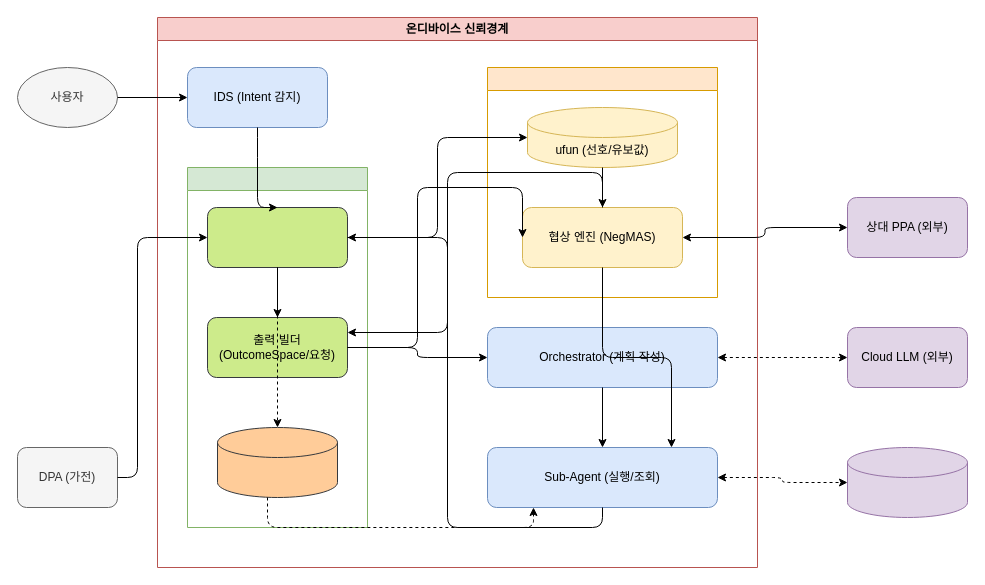
Some shapes in this 985 by 585 pixel diagram are drawn without their labels. The shapes that lost their labels are listed below. From the top down, each one's box as (x1, y1, x2, y2) in pixels, then its label:
(486, 66, 718, 298): Meta Agent (협상 두뇌)
(206, 206, 348, 268): 정규화기 (분류/권한/어휘)
(186, 166, 368, 528): 단일 프라이버시 게이트웨이
(216, 426, 338, 498): PII 금고 (Vault)
(846, 446, 968, 518): 외부 서비스 API
